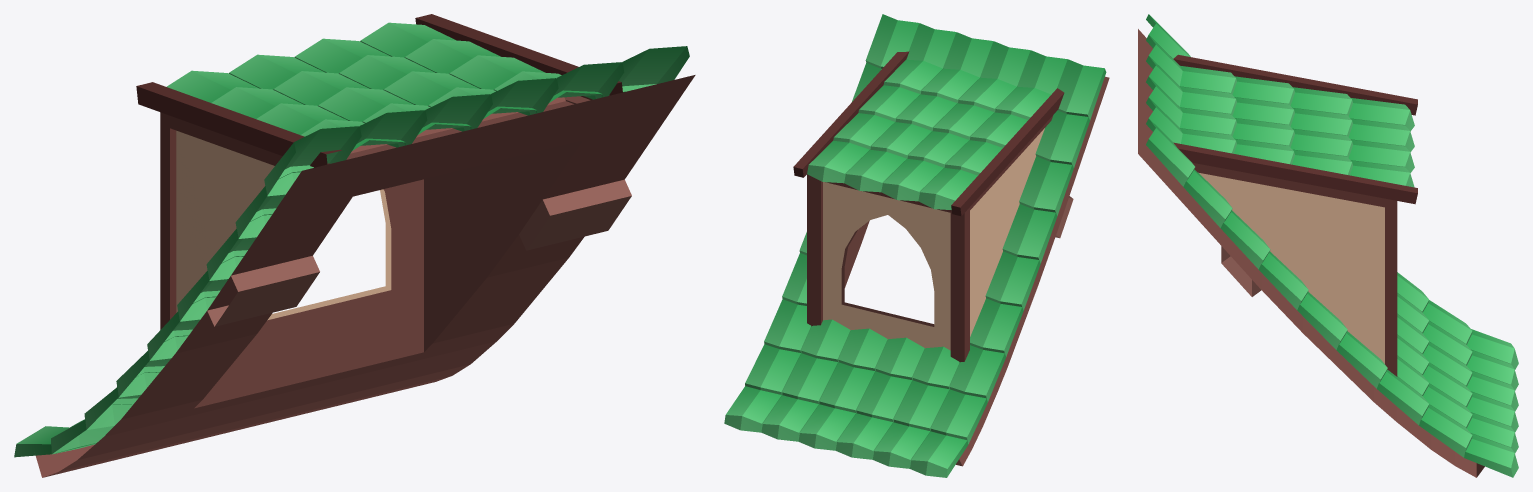
File: Dormer.fbx
3 views of the same model, side by side, from view 1: azimuth 30°, elevation 25°; view 2: azimuth 150°, elevation 25°; view 3: azimuth 270°, elevation 25° (orthographic). The views are drawn at different scales.
Parts seen in each view (by area): view 1: Dormer; view 2: Dormer; view 3: Dormer.
Part boxes in pixels (left/top/right/bottom): Dormer: left=14, top=14, right=695, bottom=477; Dormer: left=724, top=14, right=1109, bottom=477; Dormer: left=1138, top=14, right=1518, bottom=477.
Size of the model in its own units: 2.4 by 3.08 by 3.04.
